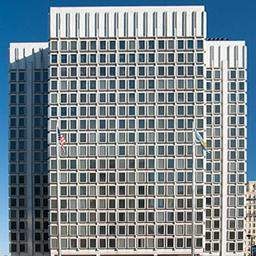building: (7, 0, 248, 255)
